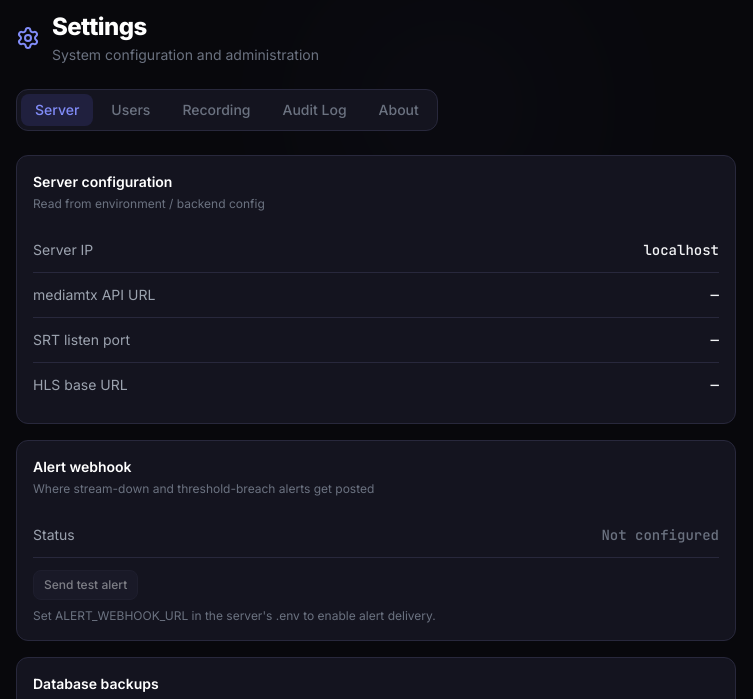
Test: SettingsPage › lists users returned by the API with role and status badges
Click the tab "Users". click: click(131, 110)
box: [97, 94, 164, 126]
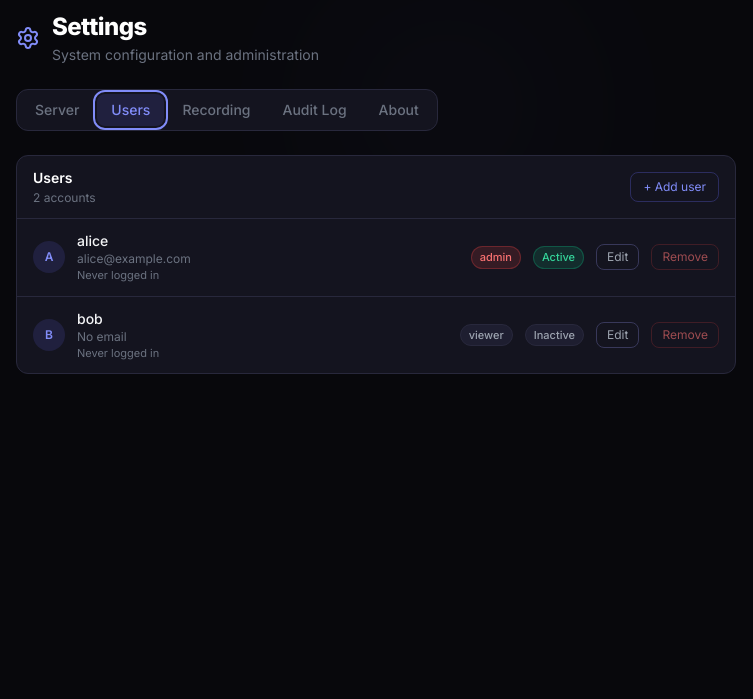
Expected: the text "alice" is shown, [77, 232, 108, 249]
Expected: the text "bob" is shown, [77, 310, 103, 326]
Expected: the text "No email" is shown, [77, 328, 127, 344]
